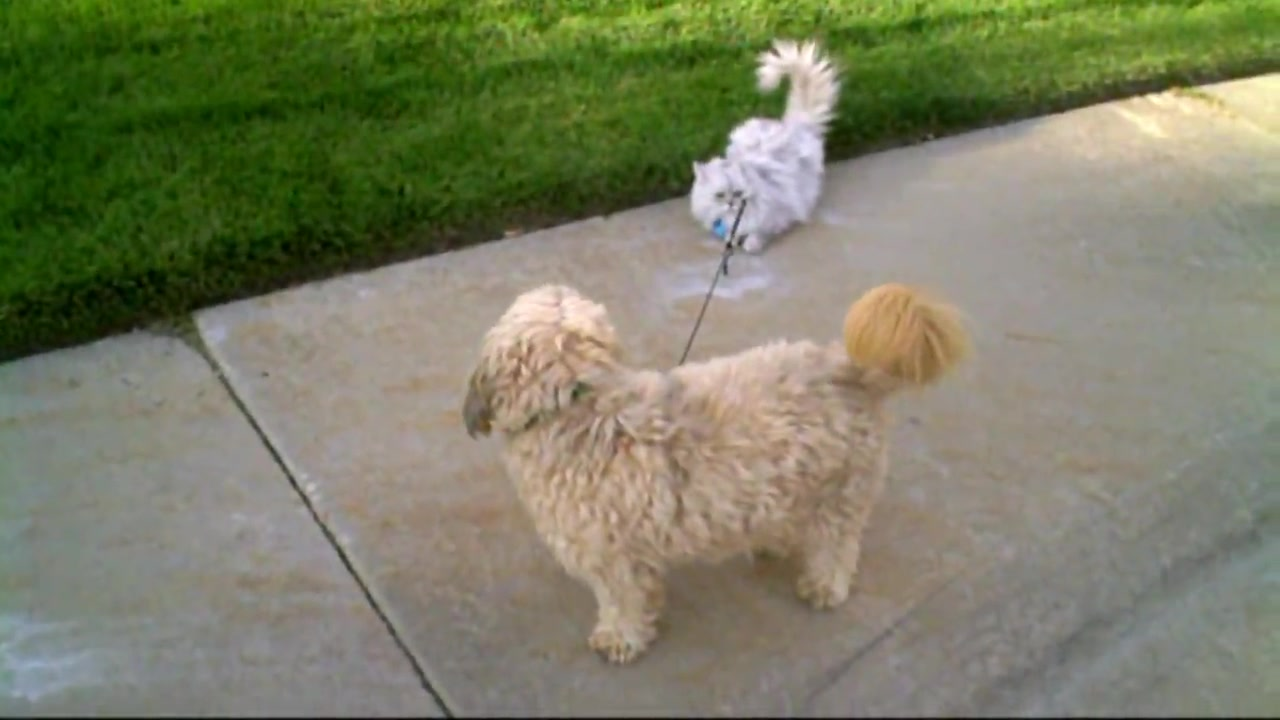dog: (467, 280, 958, 666)
